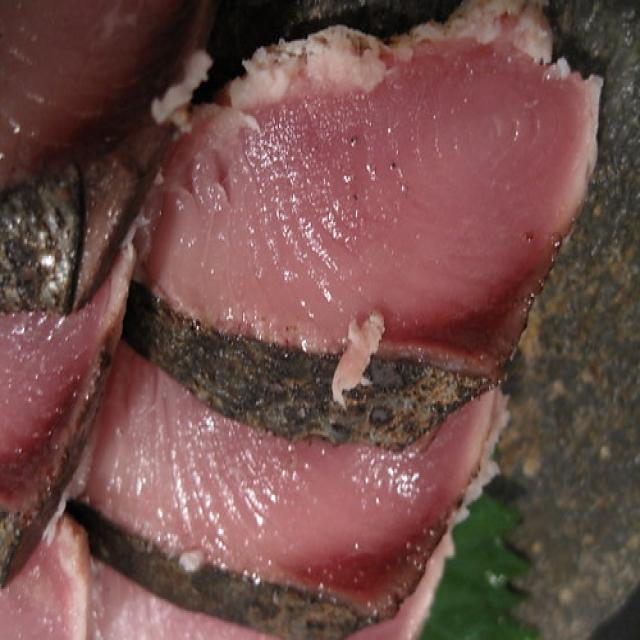熟制海鲜: (48, 0, 460, 640)
